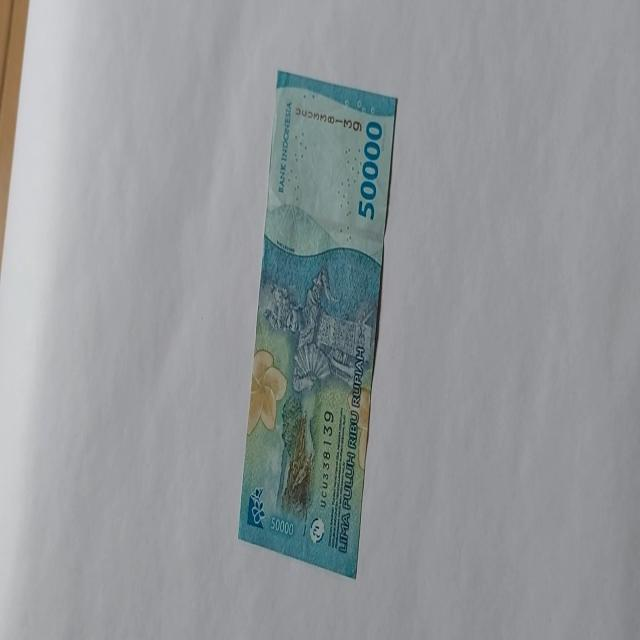lima puluh ribu rupiah: (235, 68, 398, 580)
